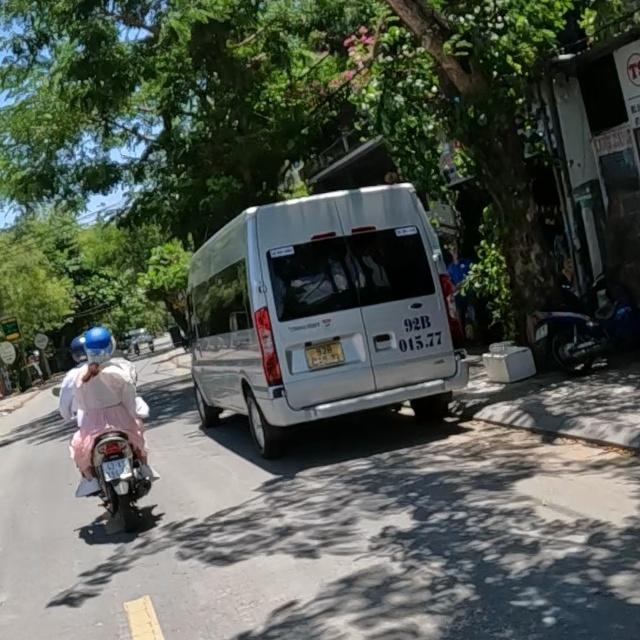license-plate: (304, 340, 345, 370)
